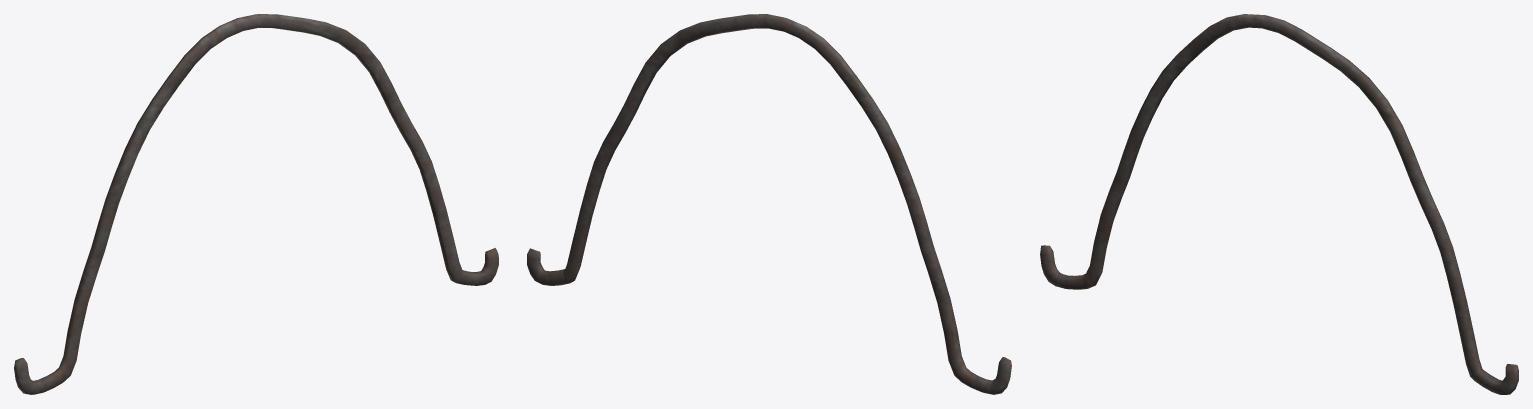
File: wooden_bucket_01_handle.glb
The picture shows the model from 3 angles, left to right: view 1: azimuth 30°, elevation 25°; view 2: azimuth 150°, elevation 25°; view 3: azimuth 330°, elevation 25°; orthographic projection.
Parts seen in each view (by area): view 1: wooden_bucket_01_handle; view 2: wooden_bucket_01_handle; view 3: wooden_bucket_01_handle.
Part boxes in pixels (x1,y1,x2,y2): wooden_bucket_01_handle: (14, 14, 498, 394); wooden_bucket_01_handle: (527, 14, 1011, 394); wooden_bucket_01_handle: (1040, 14, 1518, 394).
Bounding box in the file's own units: 0.367 × 0.2364 × 0.00818.
Materials: 1 (1 with a texture image).
